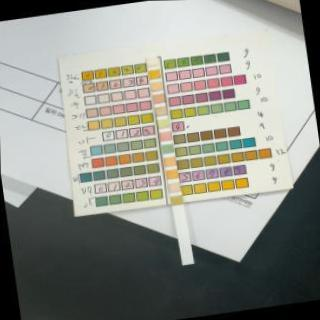mark: (163, 156, 176, 166), (146, 58, 160, 66), (150, 82, 162, 91), (154, 106, 166, 115), (162, 144, 174, 153), (170, 195, 182, 204), (165, 170, 178, 178), (167, 183, 180, 191), (158, 119, 169, 128), (152, 94, 164, 102), (160, 132, 172, 140), (148, 70, 159, 78)
